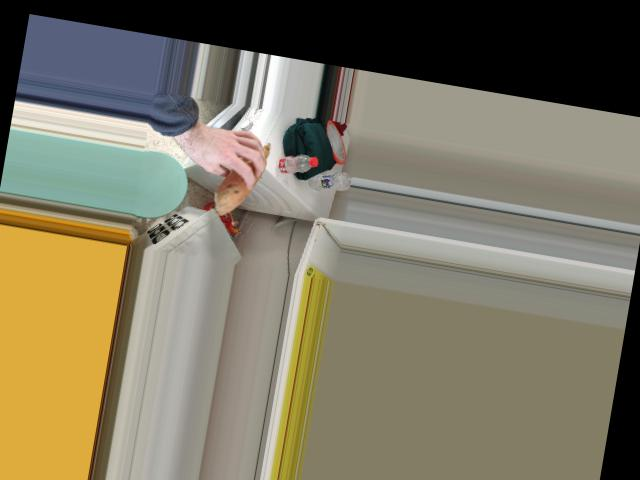sweet_potato: (212, 131, 272, 218)
